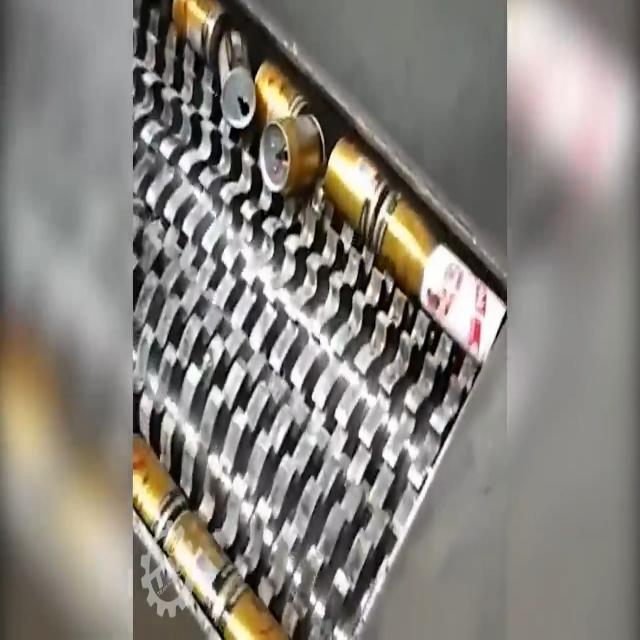Broyeur: (132, 0, 512, 640)
